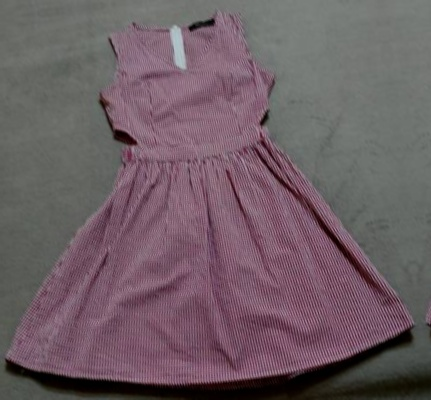Dress: (0, 0, 424, 400), (380, 0, 431, 372), (0, 0, 373, 11), (17, 397, 431, 400)
